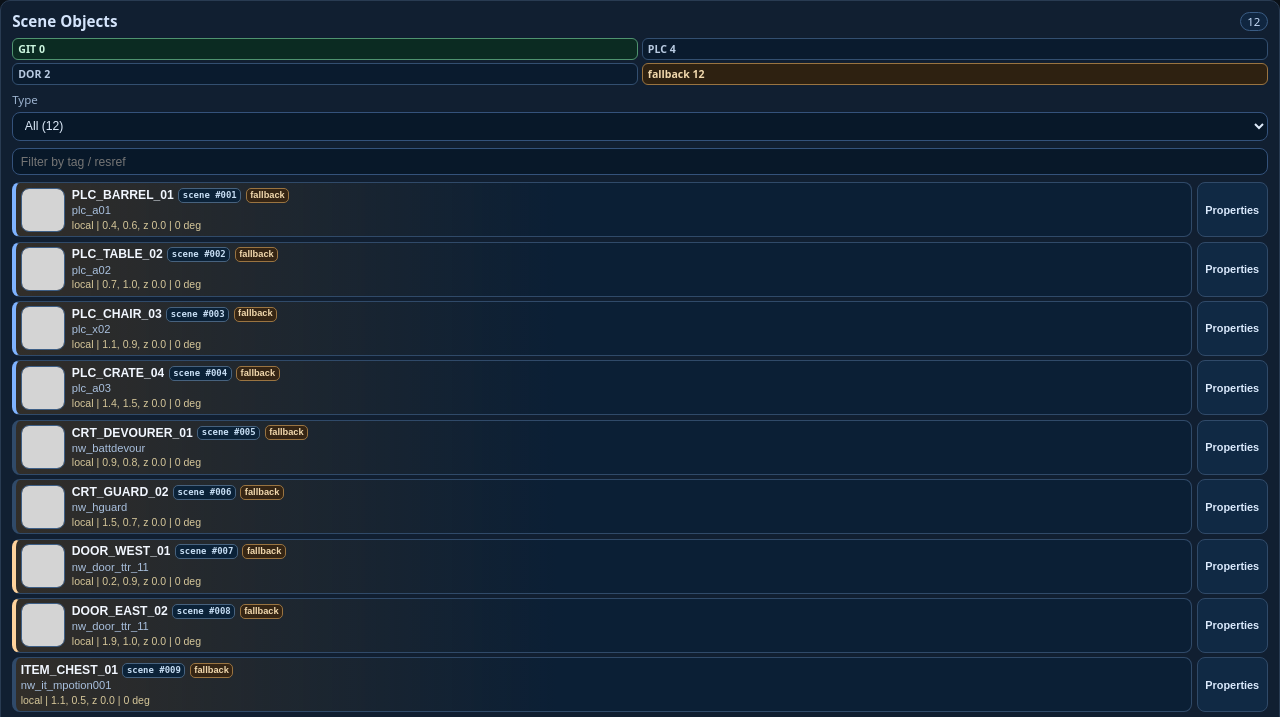
it: SceneObjectListPanel › switches type groups and shows empty state for post-mvp categories
Select "Doors (2)" in the dropdown named "object type selector": x=640, y=126 [12,112,1268,141]
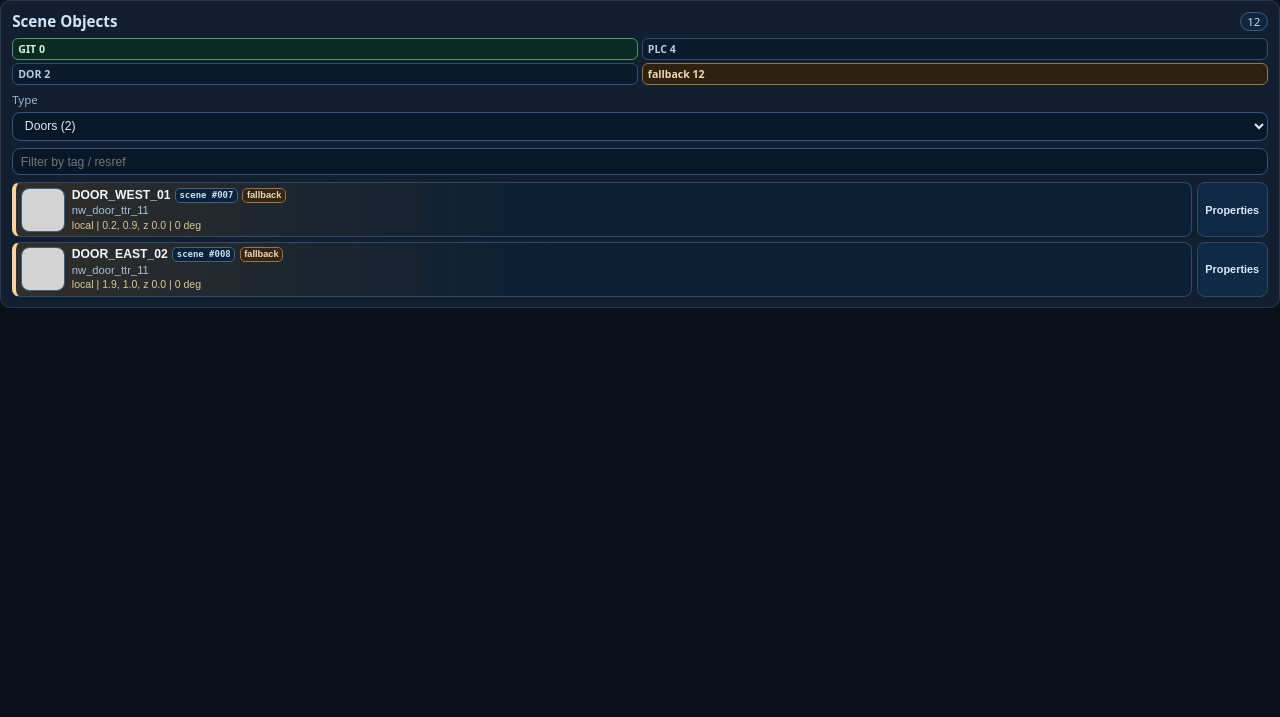
Expected: the text "DOOR_WEST_01" is shown, [72,188,170,203]
Result: the button "PLC_BARREL_01" is gone
Select "VFX (0)" in the dropdown named "object type selector": x=640, y=126 [12,112,1268,141]
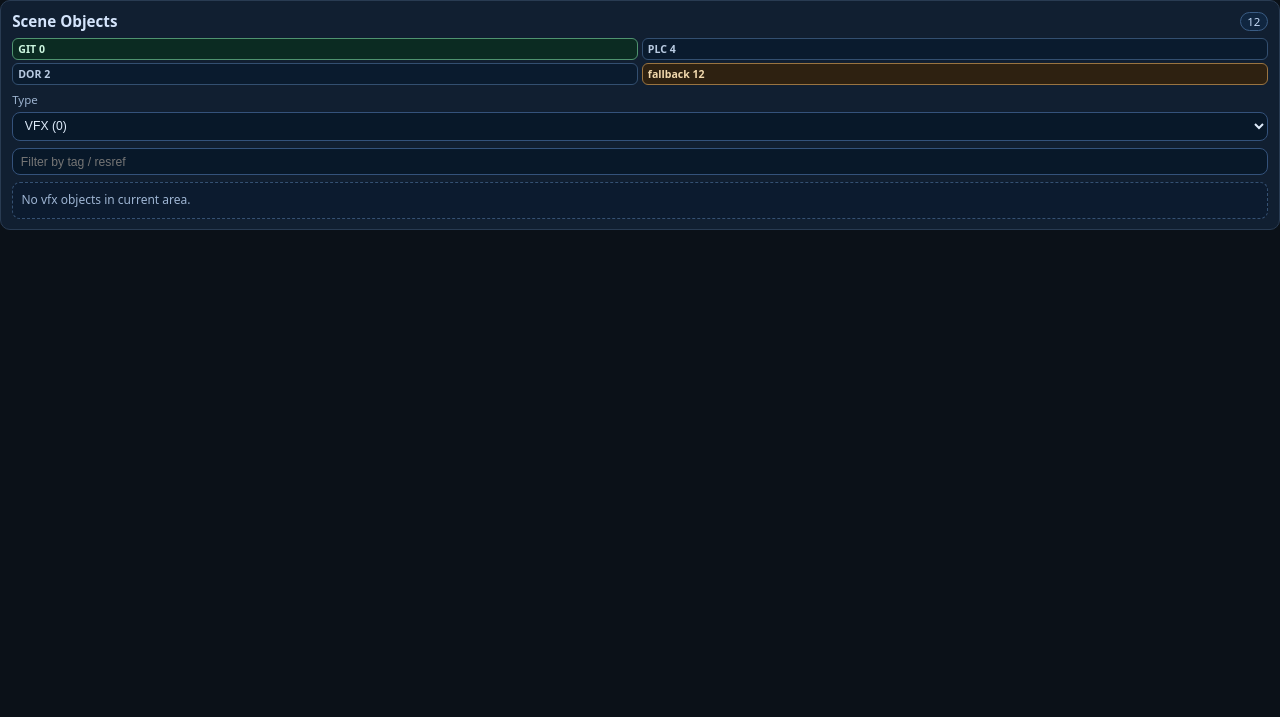
Result: the text "No vfx objects in current area." is shown at [12,182,1268,219]
